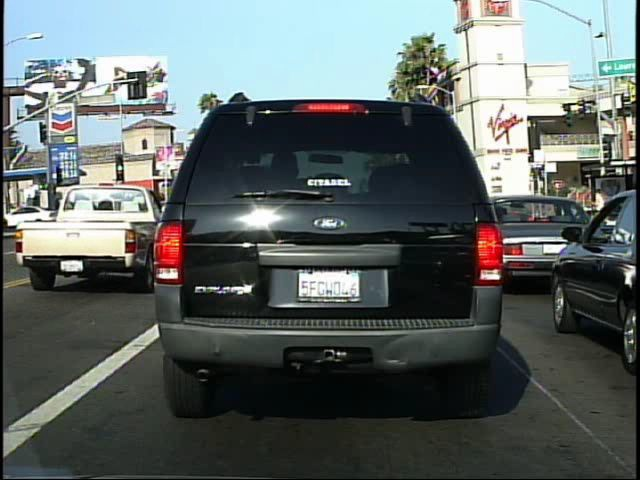person: (589, 184, 610, 242)
